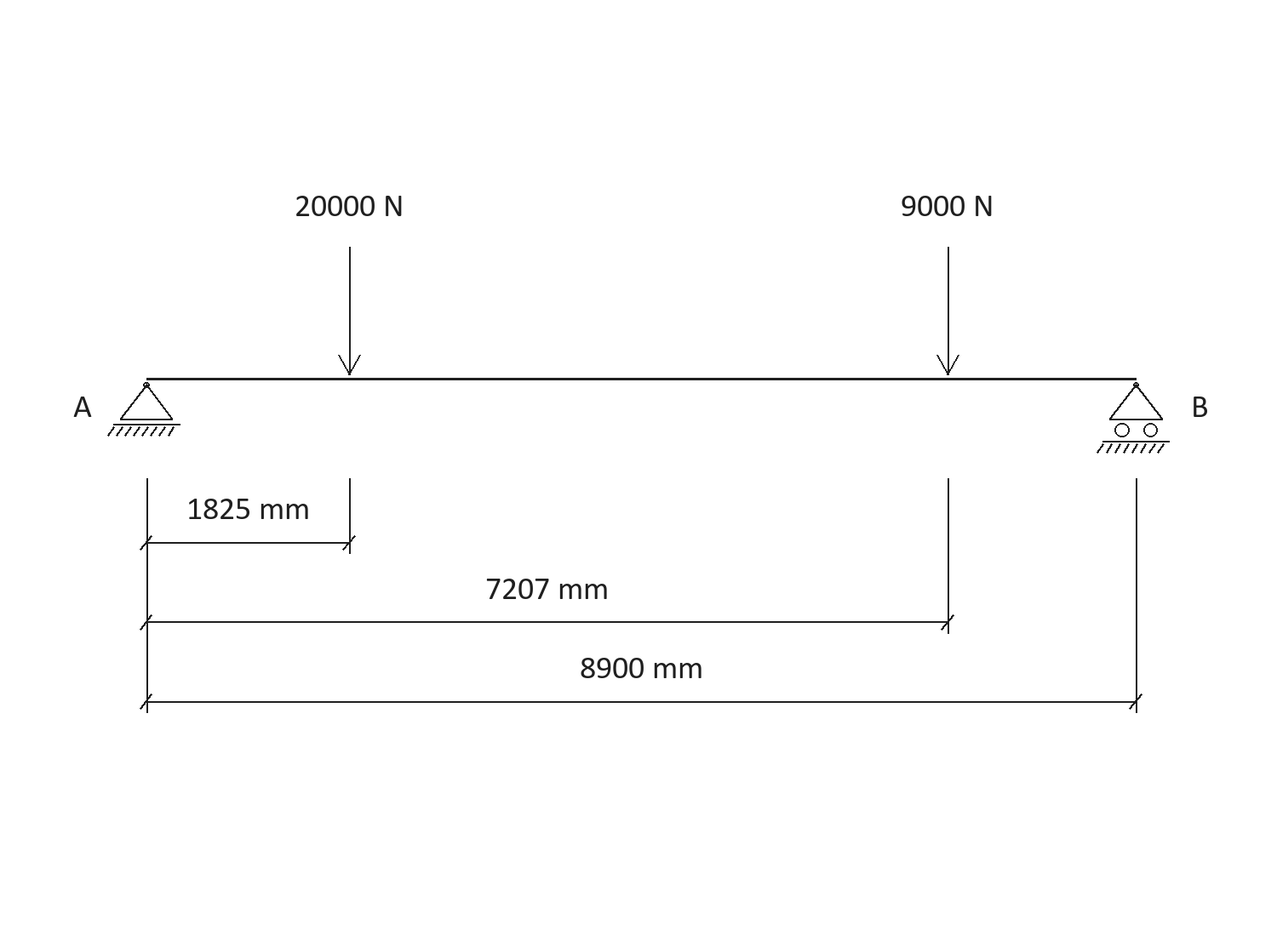pin_support: (107, 382, 180, 437)
point_load: (338, 247, 361, 375), (936, 247, 959, 375)
roller_support: (1097, 382, 1170, 454)
